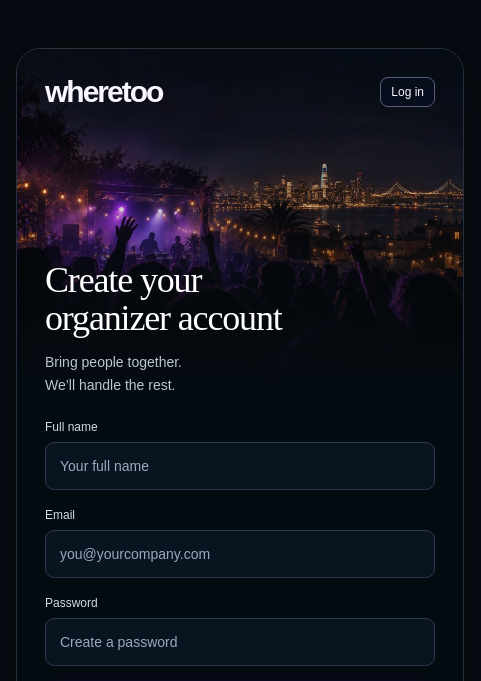
organizer auth pages › retains entered signup values and shows a server error
Type "Avery Stone" into the field labelled "Full name" at (240, 466), box [45,442,435,490]
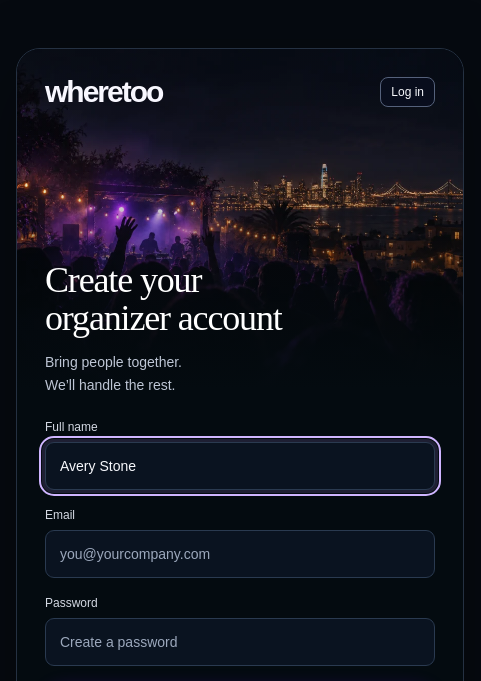
Type "organizer@example.com" into the field labelled "Email" at (240, 554), box [45,530,435,578]
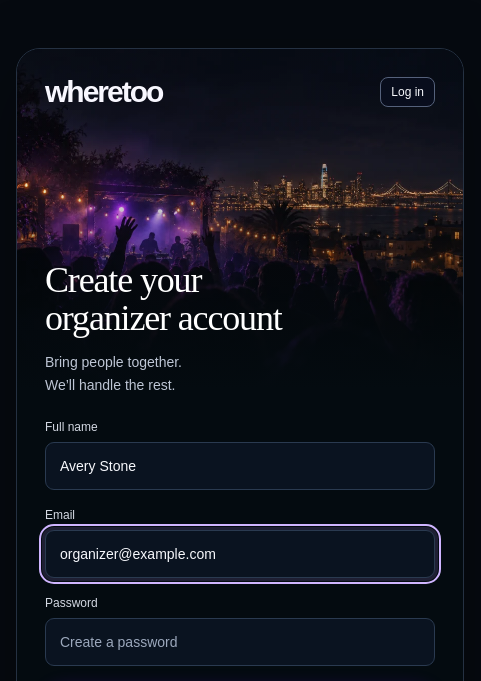
Type "safe-password" into the password field labelled "Password" at (240, 642), box [45,618,435,666]
(page scrolled)
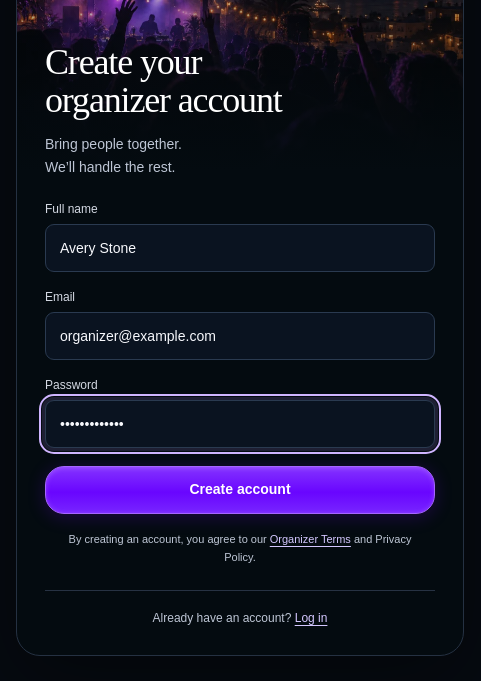
Click the button "Create account" at (240, 490), box [45,466,435,514]
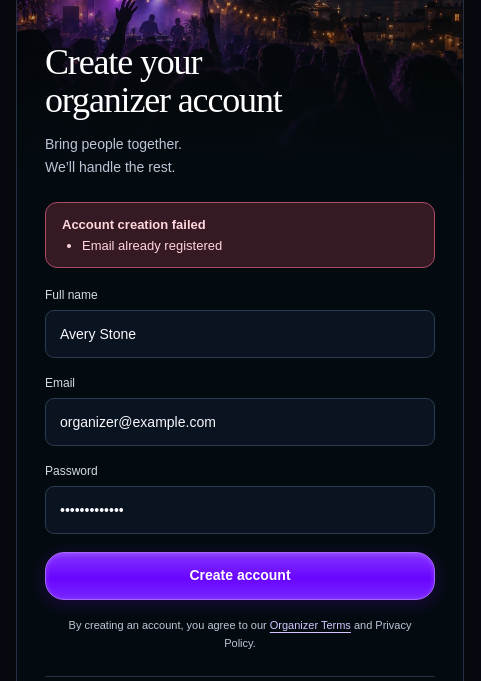
Expected: the list item "Email already registered" is shown, [82,238,222,253]
